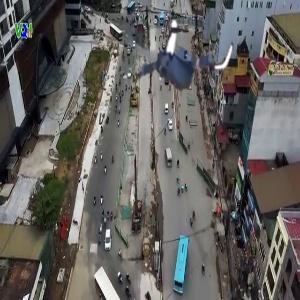drone: (132, 7, 236, 111)
